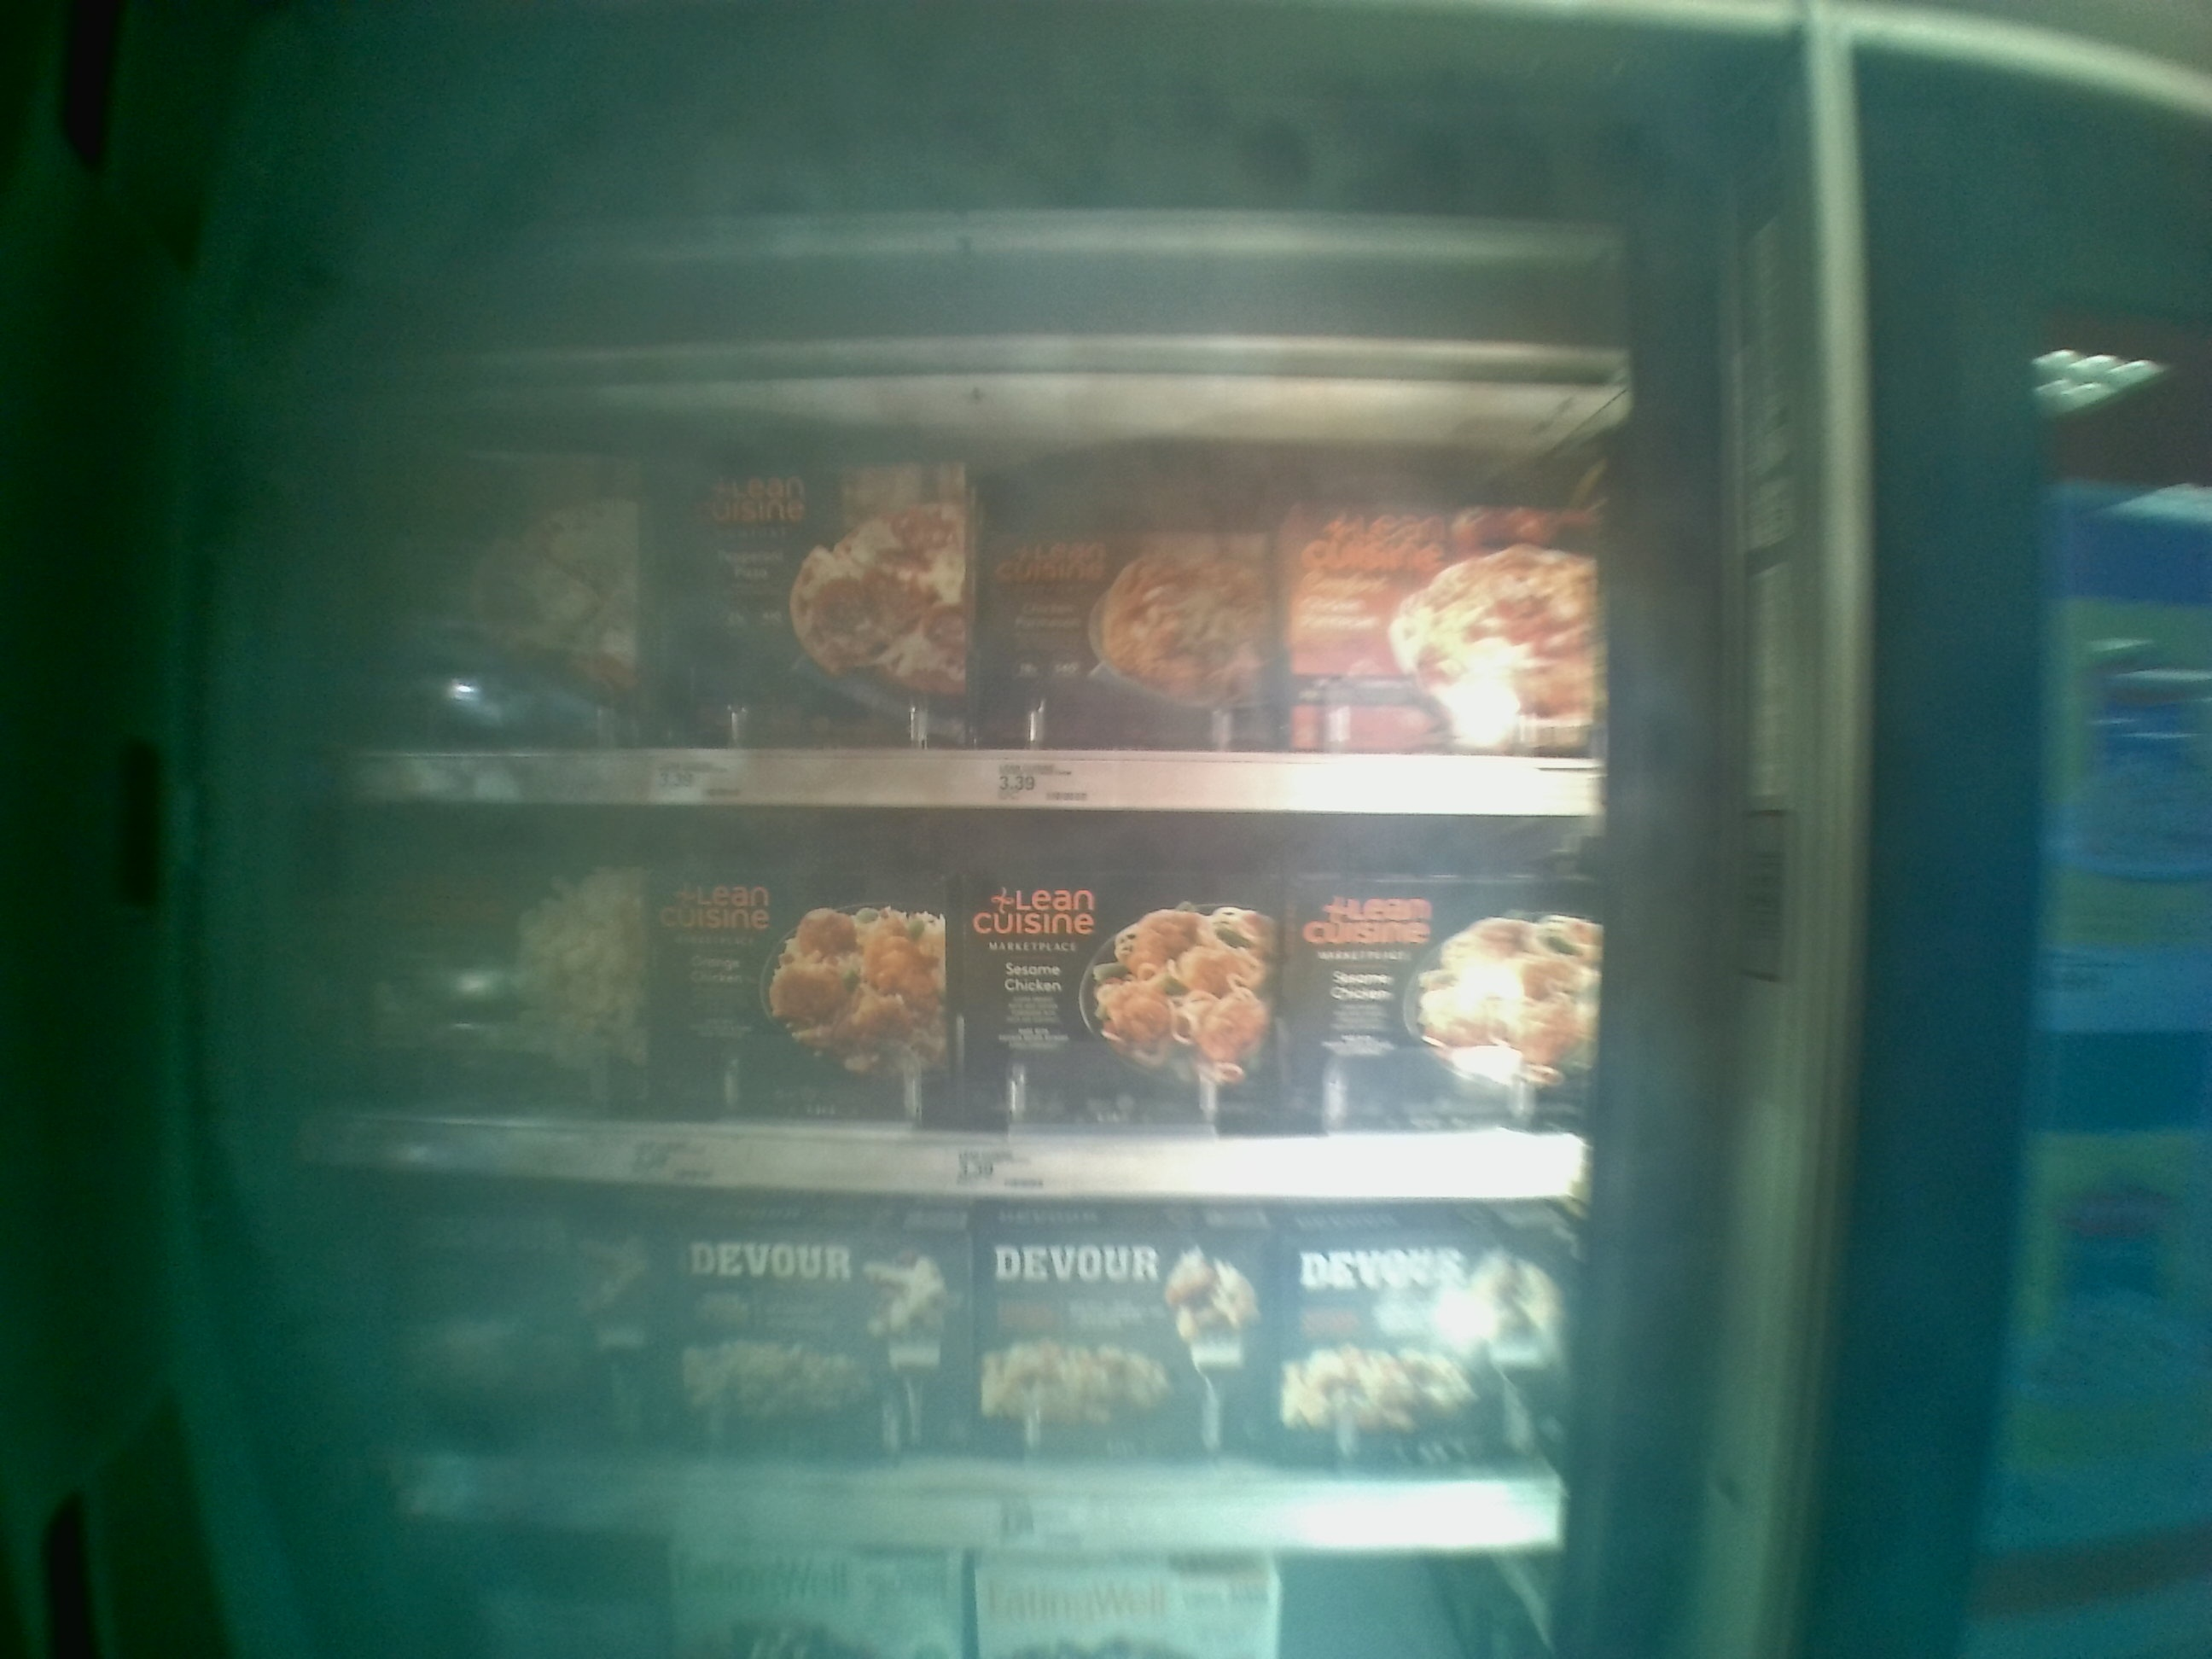shelf: (326, 396, 1606, 817), (340, 800, 1599, 1202), (324, 1175, 1581, 1549)
